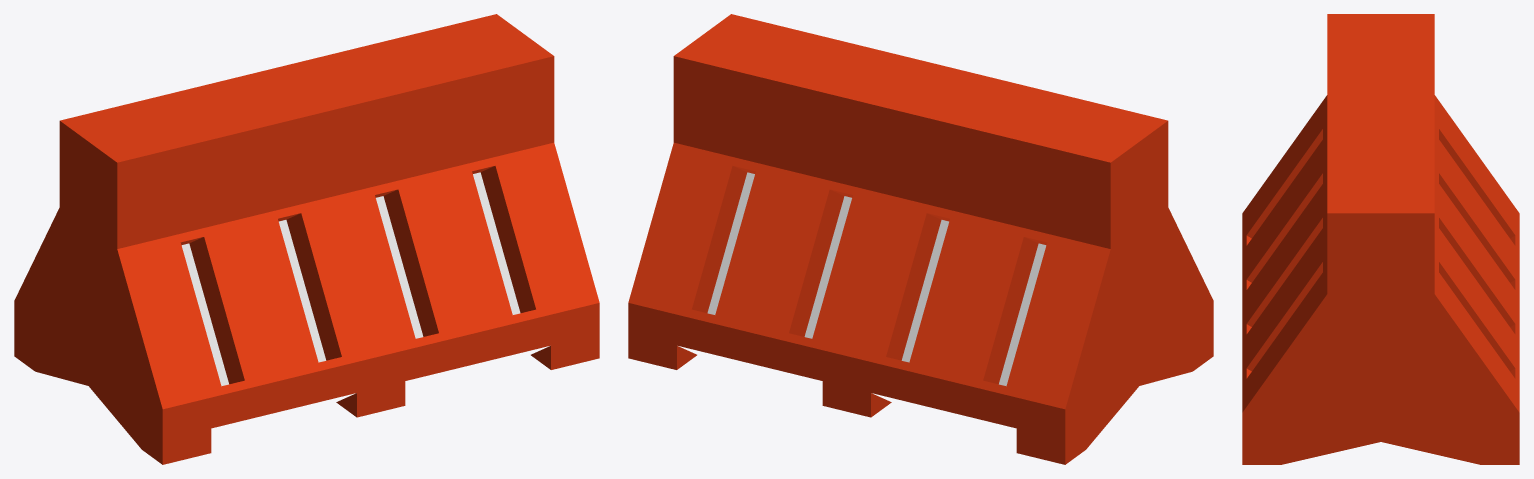
The picture shows the model from 3 angles, left to right: view 1: azimuth 30°, elevation 25°; view 2: azimuth 150°, elevation 25°; view 3: azimuth 270°, elevation 25°; orthographic projection. The views are drawn at different scales.
Parts seen in each view (by area): view 1: O3; view 2: O3; view 3: O3.
Part boxes in pixels (box(x1,y1,x2,y2)): O3: box(14, 14, 599, 464); O3: box(628, 14, 1213, 464); O3: box(1242, 14, 1519, 464).
Size of the model in its own units: 340 by 200 by 200.
